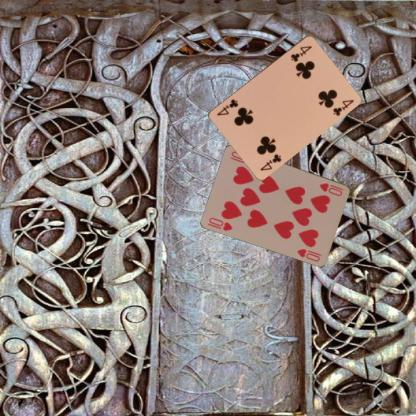10h: (317, 180, 345, 198), (207, 215, 234, 232)
4c: (257, 150, 283, 172), (288, 43, 313, 63)
